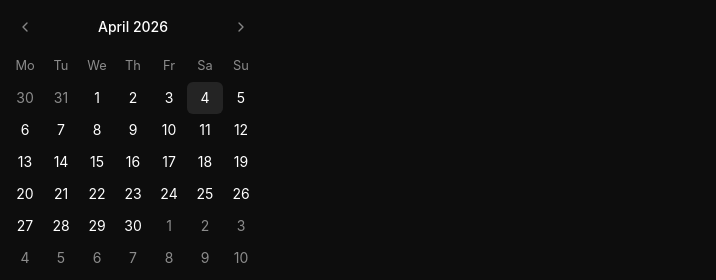
Test case: Calendar keyboard navigation › pages years with Shift+horizontal arrows from month values and year pagers
Later steps or results of the test are not shown.
Click the button named "caption-month-year" at (133,27), box [89, 12, 177, 42]
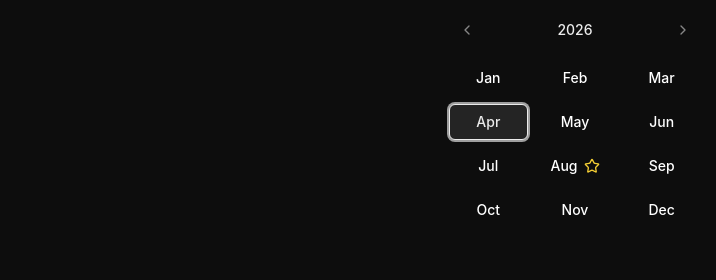
Press ArrowRight in the button named "month", box [449, 104, 528, 140]
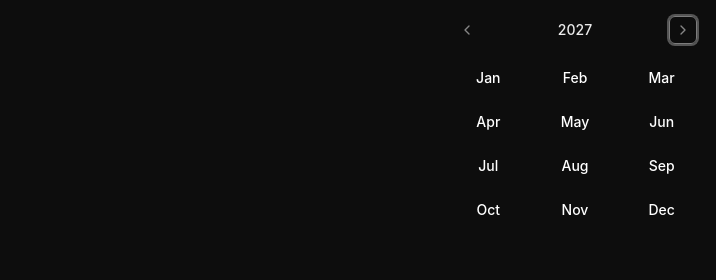
Expected: the text "2027" is shown, [558, 21, 592, 38]
